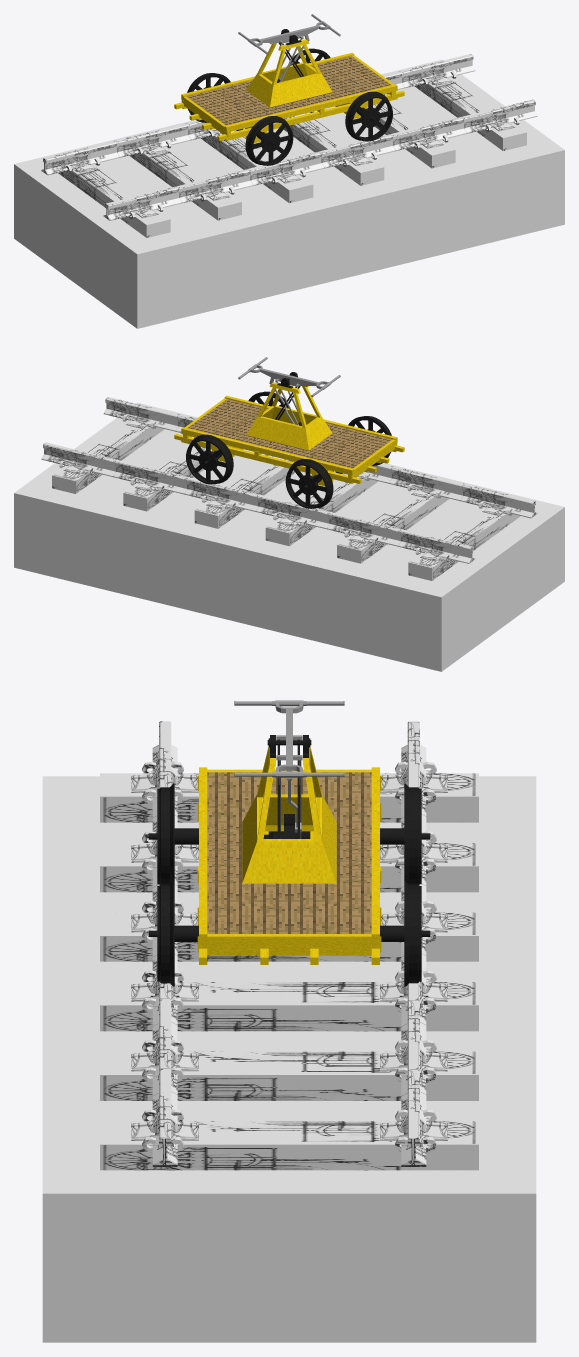
File: handcart_1.obj
3 renders of one model, top to bottom at view 1: azimuth 30°, elevation 25°; view 2: azimuth 150°, elevation 25°; view 3: azimuth 270°, elevation 25°, orthographic. The views are drawn at different scales.
Parts seen in each view (by area): view 1: RAIL_BASE_Cube.000, FRAME_Cube.010, FRAME_WHEEL_1_Gear.001, FRAME_WHEEL_2_Cylinder.010, SHELL_Cube.011; view 2: RAIL_BASE_Cube.000, FRAME_Cube.010, FRAME_WHEEL_1_Gear.001, FRAME_WHEEL_2_Cylinder.010, SHELL_Cube.011; view 3: RAIL_BASE_Cube.000, FRAME_Cube.010, FRAME_WHEEL_1_Gear.001, FRAME_WHEEL_2_Cylinder.010, SHELL_Cube.011.
Boxes of the visible parts, box(x1,y1,x2,y2) form: RAIL_BASE_Cube.000: box(14, 54, 564, 328); FRAME_Cube.010: box(174, 29, 404, 140); FRAME_WHEEL_1_Gear.001: box(187, 73, 293, 165); FRAME_WHEEL_2_Cylinder.010: box(290, 48, 392, 141); SHELL_Cube.011: box(238, 14, 340, 54); RAIL_BASE_Cube.000: box(14, 397, 564, 671); FRAME_Cube.010: box(174, 372, 404, 483); FRAME_WHEEL_1_Gear.001: box(285, 416, 391, 508); FRAME_WHEEL_2_Cylinder.010: box(186, 391, 288, 484); SHELL_Cube.011: box(238, 357, 340, 397); RAIL_BASE_Cube.000: box(42, 721, 536, 1342); FRAME_Cube.010: box(197, 735, 381, 964); FRAME_WHEEL_1_Gear.001: box(148, 783, 430, 884); FRAME_WHEEL_2_Cylinder.010: box(148, 881, 430, 986); SHELL_Cube.011: box(234, 700, 344, 777).
Bounding box in the file's own units: 6 × 2.67 × 3.
